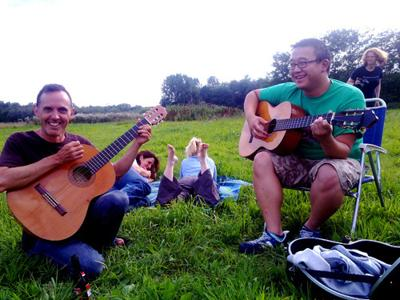person: (241, 38, 370, 254)
